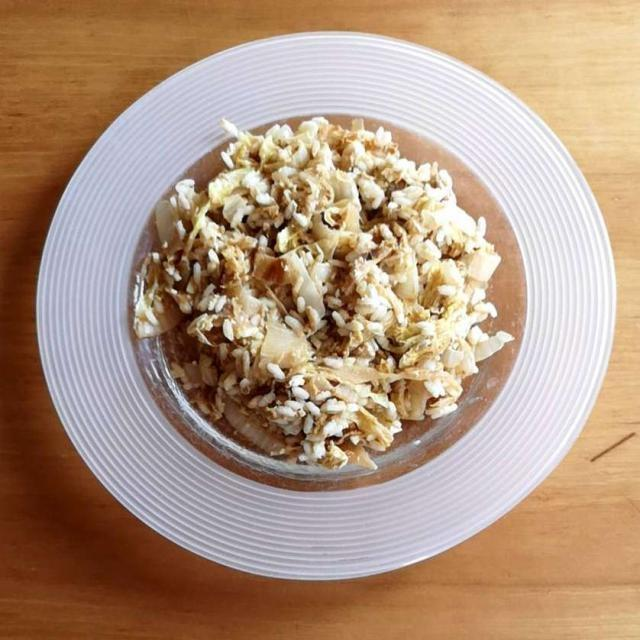rice: (142, 121, 501, 464)
